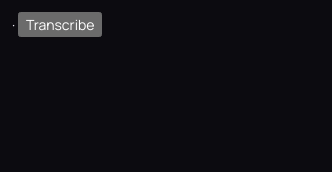
it: TakeTranscript › queues the job, polls it and then links the captions
Click the button "Transcribe" at (60, 24), box [18,12,102,37]
Wait 2000 ms
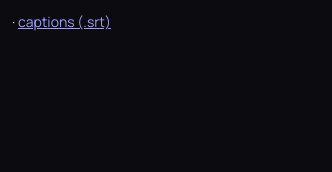
Check: the text "transcribing" is shown, box [12,12,111,31]
Check: the link "captions (.srt)" is shown, box [18,12,111,31]
